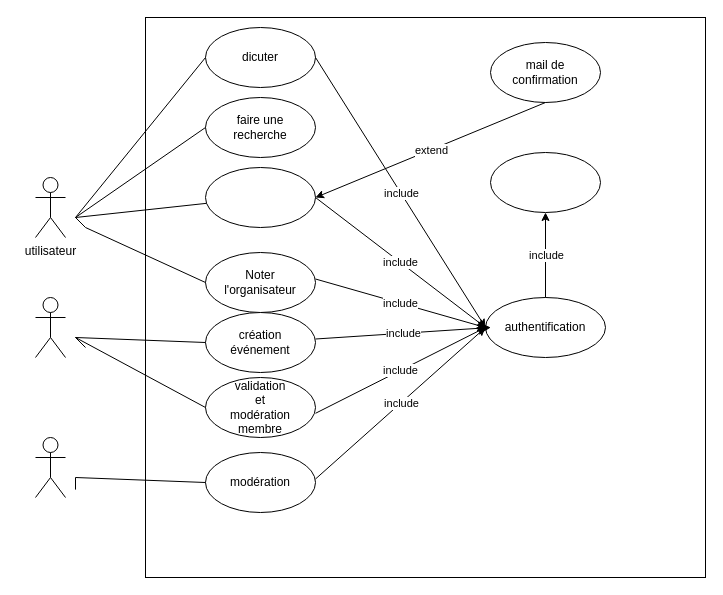
The diagram is 723 pixels wide and 595 high, and some of its shapes have lost their labels. The shapes that lost their labels are listed below. From the top down, each one's centre as x and y in pixels, then its label:
At point (260, 197): "s'inscrire à un événemement".
At point (545, 182): "créer un compte".
At point (50, 327): "organisateur".
At point (50, 467): "admin".
